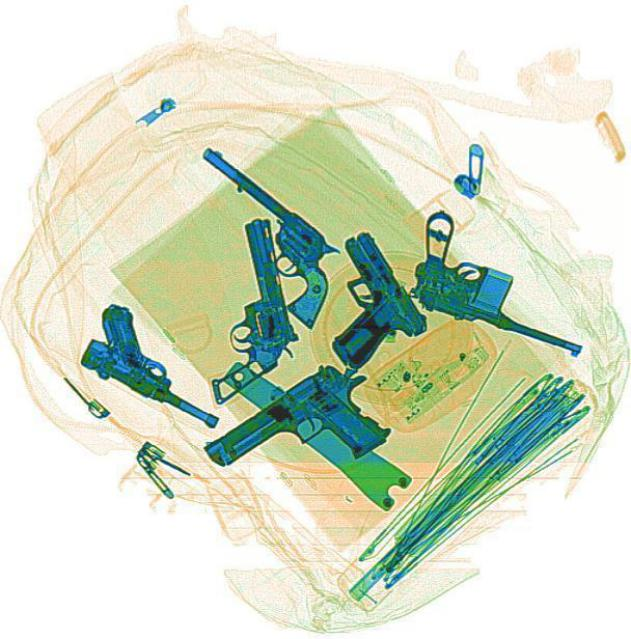Gun: (150, 144, 365, 327), (197, 346, 404, 522), (393, 206, 612, 359), (176, 212, 306, 403), (70, 297, 249, 434), (282, 227, 429, 372)
